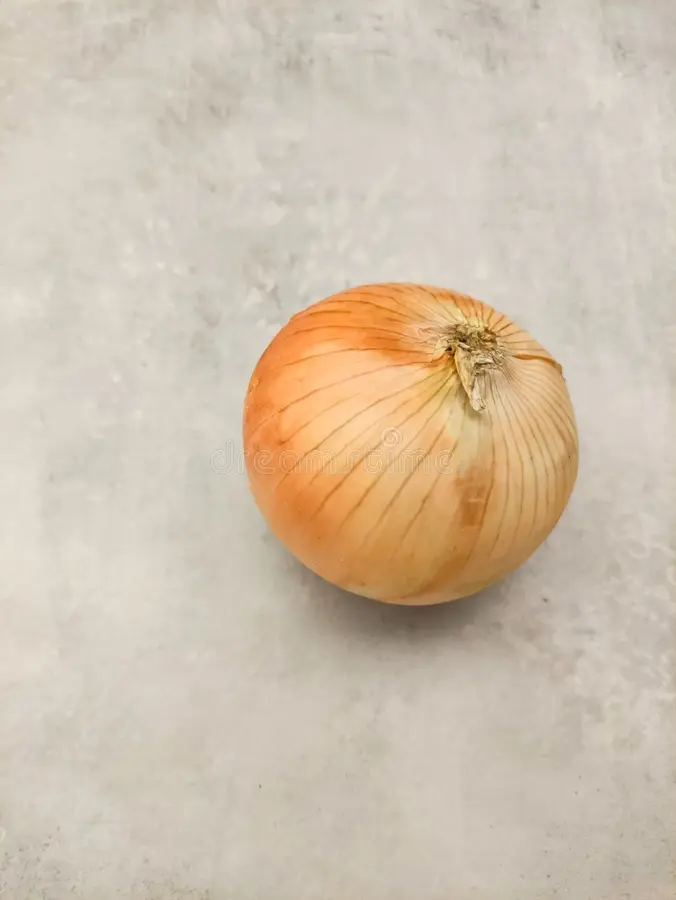onion: (210, 224, 623, 658)
